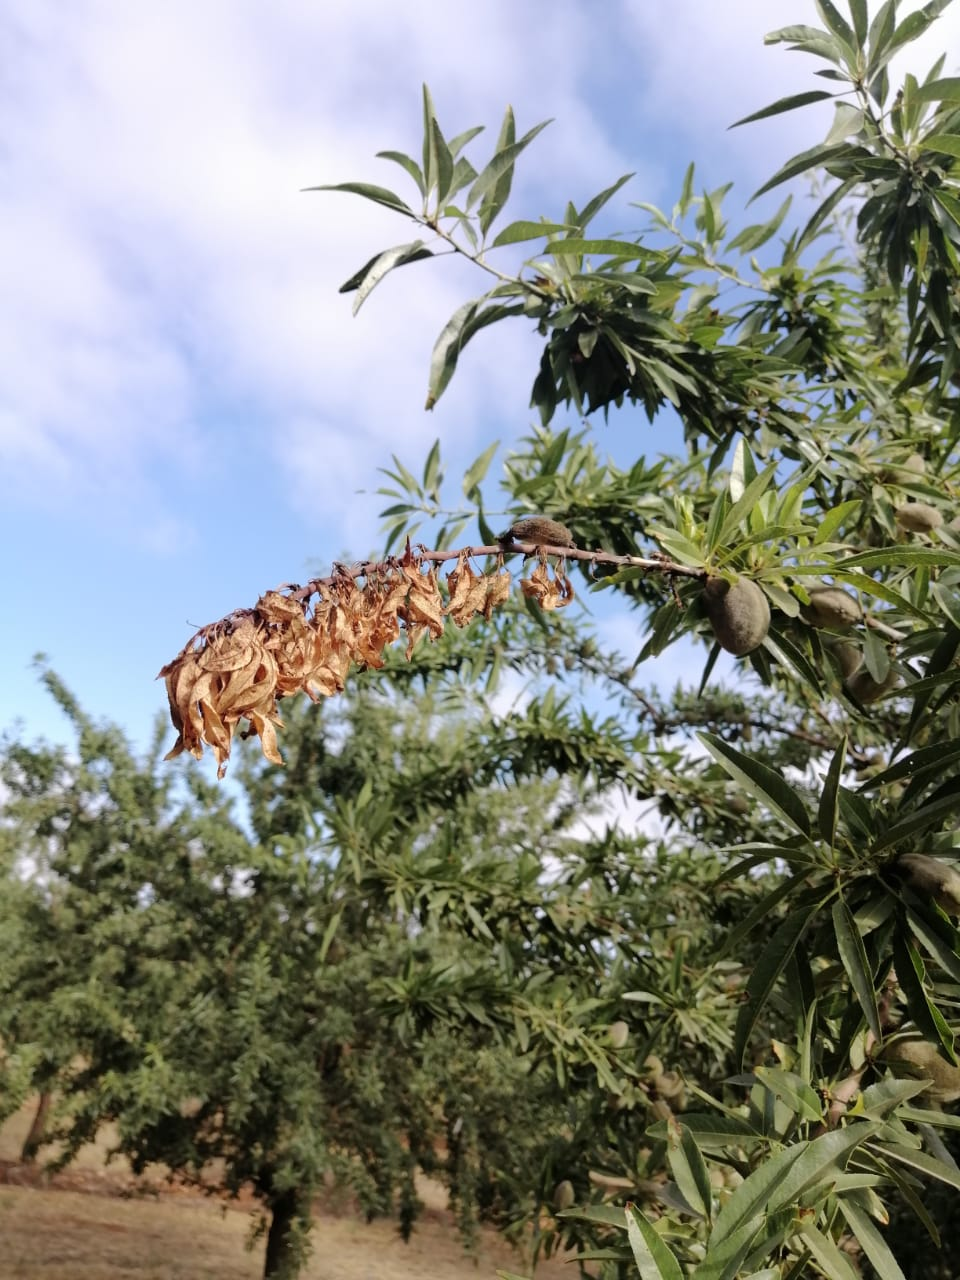chancre fusicocum: (157, 540, 576, 781)
